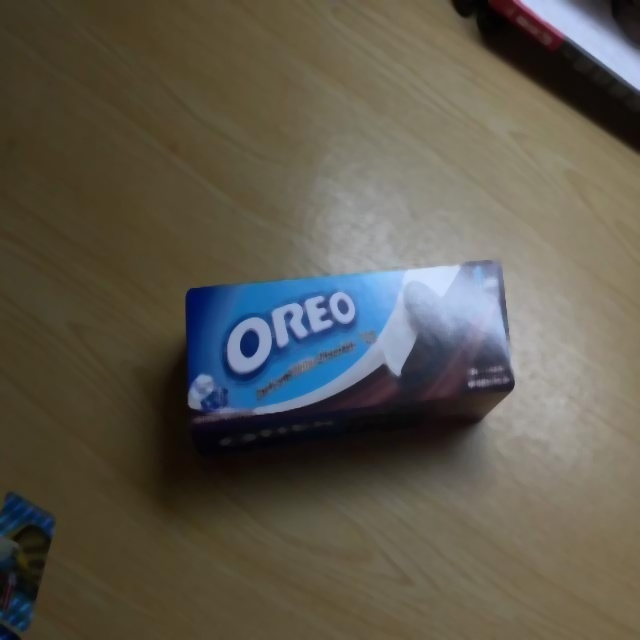Oreo: (183, 260, 517, 440)
